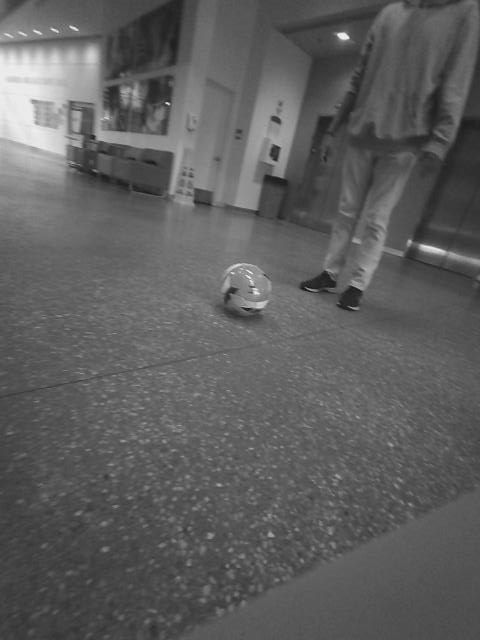ball: (6, 349, 113, 532)
